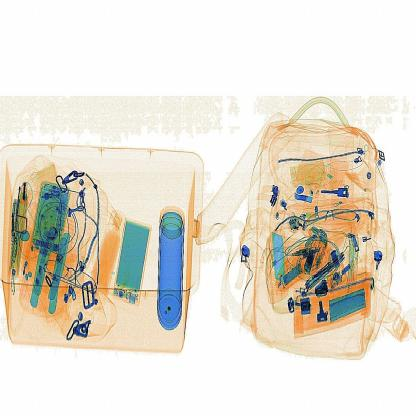pliers: (266, 221, 298, 309)
